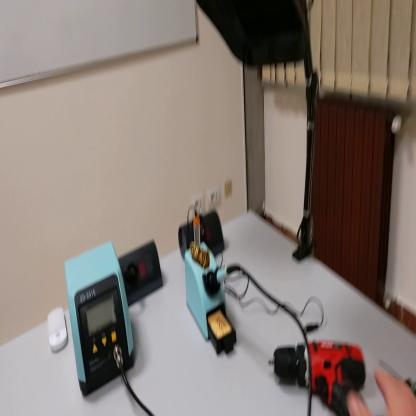electric screwdriver: (271, 334, 369, 416)
hand: (348, 365, 416, 416)
high voltage board: (406, 375, 416, 398)
socket: (121, 235, 167, 307), (177, 214, 225, 266)
welder base: (185, 212, 239, 360)
welder station: (66, 238, 137, 400)
